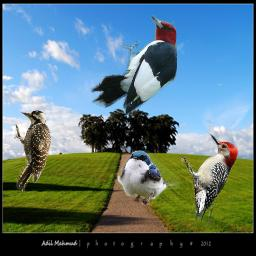Swallow: (117, 150, 180, 205)
Woodpecker: (90, 15, 177, 115), (177, 132, 241, 225), (13, 108, 51, 194)
